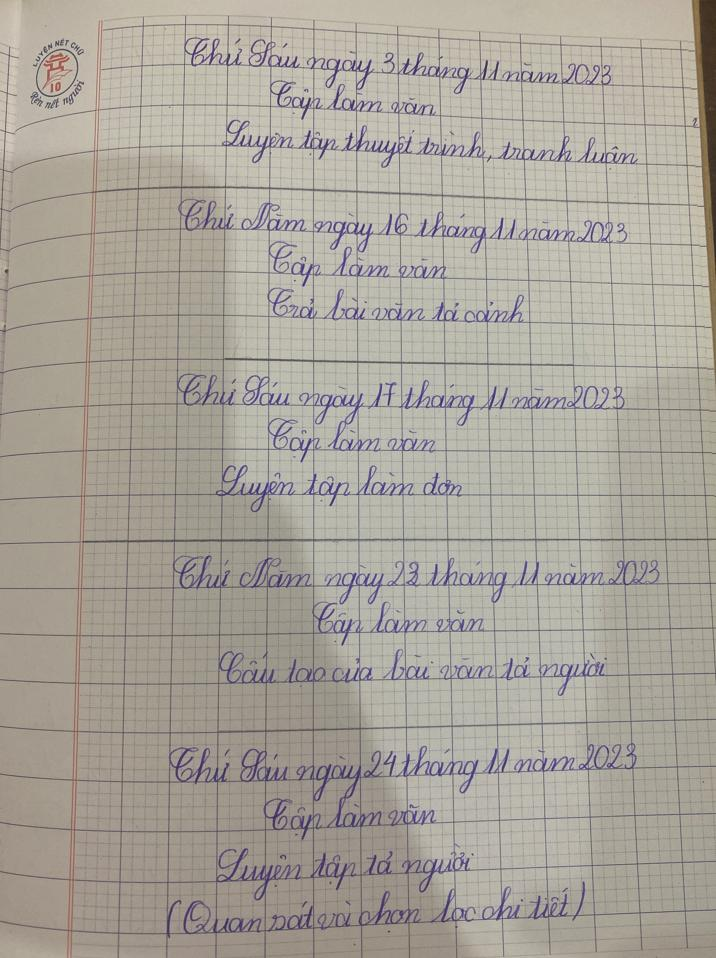text: (164, 739, 640, 809), (161, 874, 590, 946), (169, 549, 664, 610), (176, 31, 616, 99), (176, 194, 631, 256), (174, 369, 629, 429), (217, 114, 643, 174), (213, 646, 611, 700), (213, 839, 474, 909), (211, 460, 466, 519), (264, 284, 530, 327), (309, 596, 489, 653), (264, 237, 450, 290), (259, 793, 441, 847), (263, 416, 439, 466), (266, 77, 441, 124)
